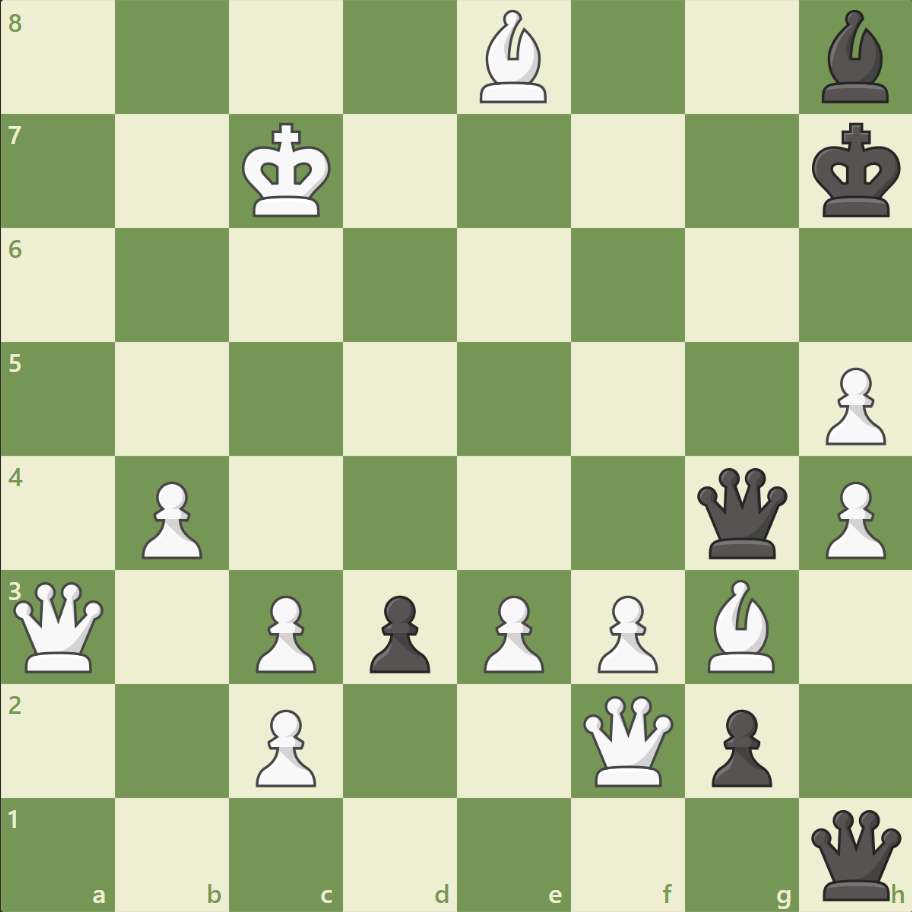B: (471, 6, 555, 109), (698, 574, 782, 676)
K: (238, 117, 338, 225)
P: (133, 473, 208, 564), (247, 586, 322, 677), (474, 586, 549, 677), (247, 700, 322, 791), (815, 359, 889, 450), (815, 473, 889, 564), (588, 586, 662, 677)
Q: (10, 576, 109, 676), (578, 690, 677, 789)
b: (812, 6, 896, 109)
k: (806, 117, 906, 225)
p: (701, 700, 776, 791), (361, 586, 435, 677)
q: (691, 463, 790, 562), (805, 804, 904, 903)
